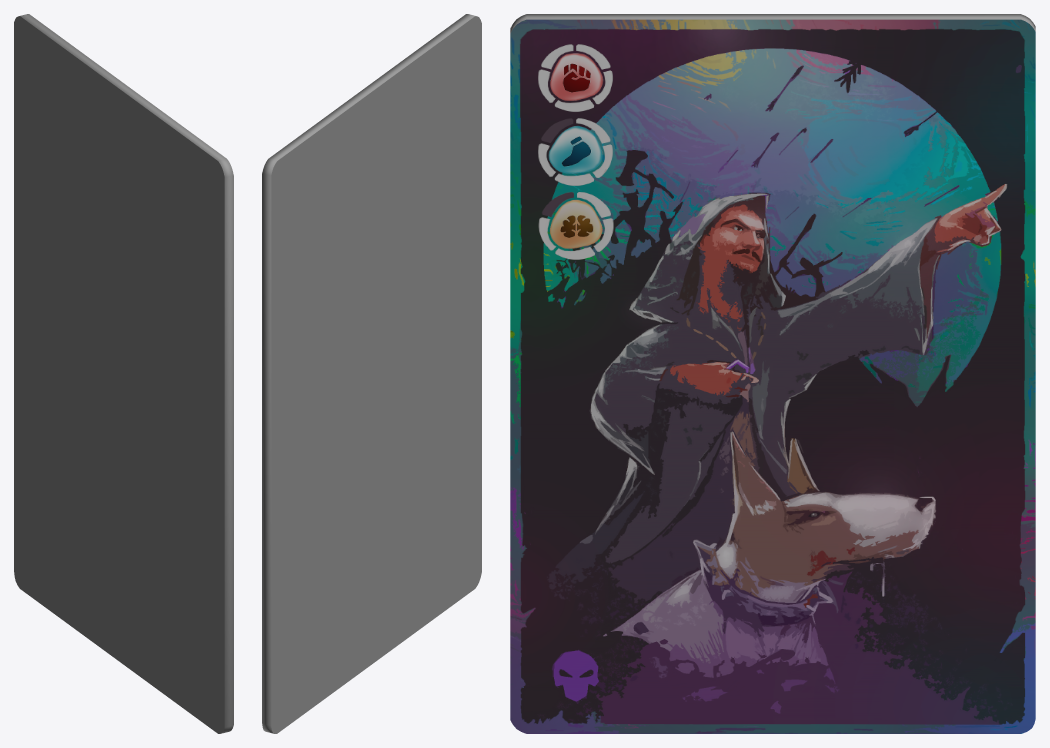
File: Card.fbx
3 renders of one model, left to right at view 1: azimuth 30°, elevation 25°; view 2: azimuth 150°, elevation 25°; view 3: azimuth 270°, elevation 25°, orthographic. The views are drawn at different scales.
Visible parts, largest first — view 1: Evelone Card Holography; view 2: Evelone Card Holography; view 3: Evelone Card Holography.
Boxes of the visible parts, box(x1,y1,x2,y2) form: Evelone Card Holography: box(14, 14, 233, 733); Evelone Card Holography: box(262, 14, 481, 733); Evelone Card Holography: box(510, 14, 1035, 733).
Bounding box in the file's own units: 1.66 × 100 × 66.67.
